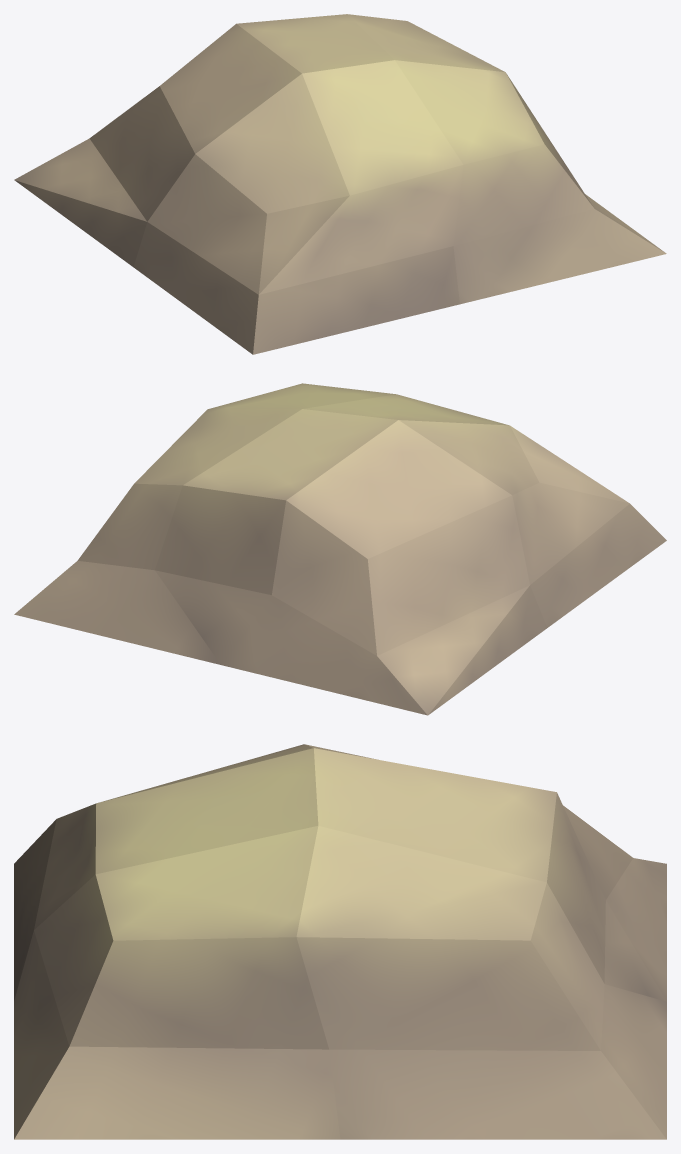
The model's file is Rocher_G.FBX.
3 views of the same model, one above another, from view 1: azimuth 30°, elevation 25°; view 2: azimuth 150°, elevation 25°; view 3: azimuth 270°, elevation 25° (orthographic). The views are drawn at different scales.
Parts seen in each view (by area): view 1: Rocher_G; view 2: Rocher_G; view 3: Rocher_G.
Part boxes in pixels (x1=…): Rocher_G: x1=14, y1=14, x2=666, y2=354; Rocher_G: x1=14, y1=383, x2=666, y2=715; Rocher_G: x1=14, y1=744, x2=666, y2=1139.
Bounding box in the file's own units: 1 × 0.3744 × 1.
